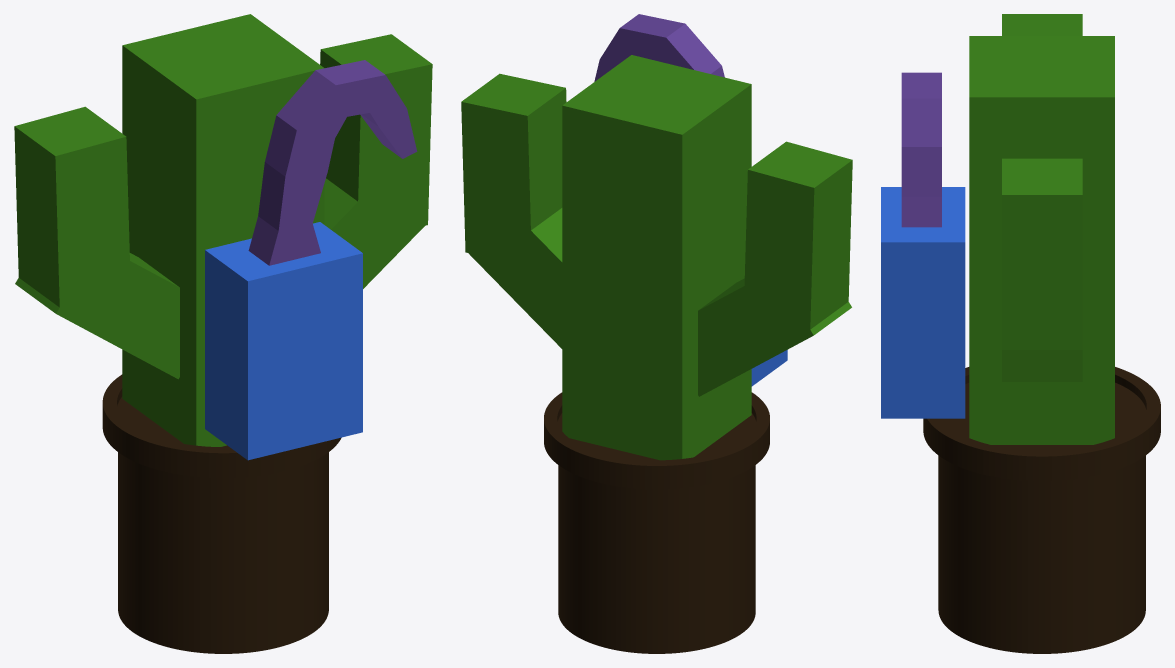
Rendered from Character_flag_off.fbx.
The picture shows the model from 3 angles, left to right: view 1: azimuth 30°, elevation 25°; view 2: azimuth 150°, elevation 25°; view 3: azimuth 270°, elevation 25°; orthographic projection. The views are drawn at different scales.
Visible parts, largest first — view 1: Cube, Cube.001, Cube.002; view 2: Cube, Cube.002; view 3: Cube, Cube.001, Cube.002.
Part boxes in pixels (box(x1,y1,x2,y2)): Cube: box(14, 14, 432, 653); Cube.001: box(205, 222, 362, 460); Cube.002: box(248, 60, 417, 265); Cube: box(461, 55, 852, 653); Cube.002: box(594, 14, 724, 81); Cube: box(923, 14, 1160, 653); Cube.001: box(881, 187, 965, 418); Cube.002: box(901, 72, 941, 227).
Size of the model in its own units: 289 by 415 by 189.
